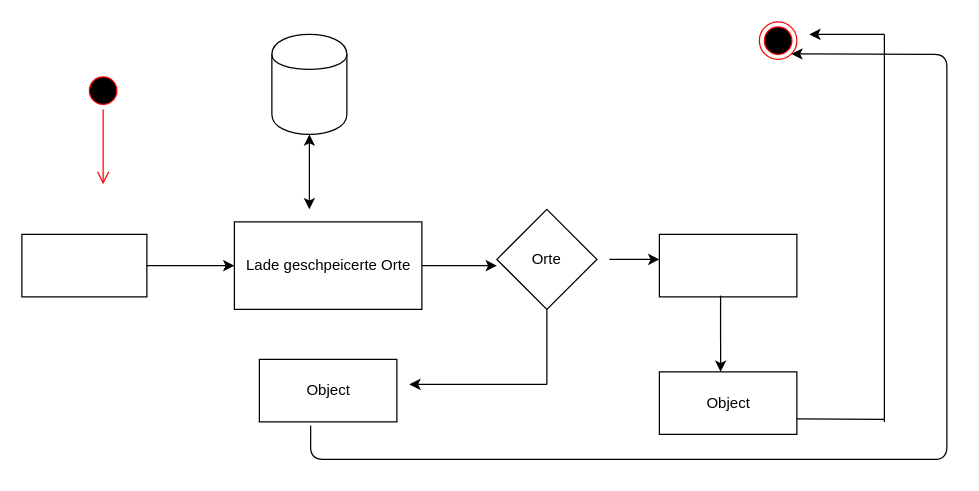
This 979x491 diagram has some shape labels left out. The centre of each missing label's shape, as x and y in pixels:
"Karte einzeugen" belongs at point (84, 265).
"Mach Makeer für jeden Ort" belongs at point (727, 265).
